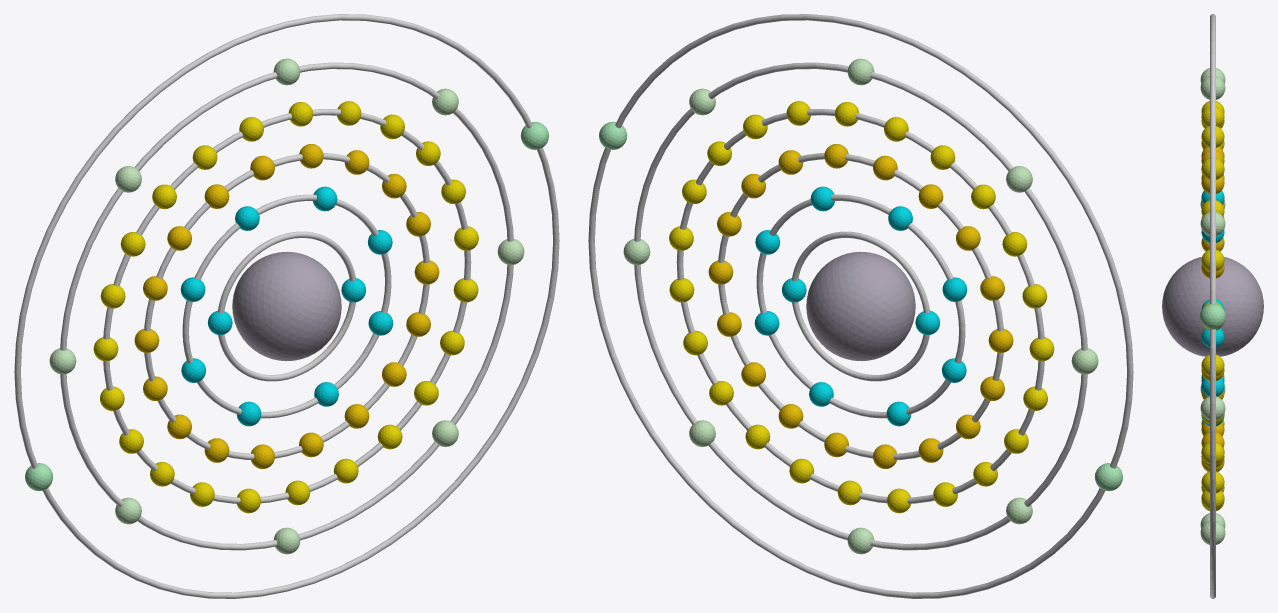
The picture shows the model from 3 angles, left to right: view 1: azimuth 30°, elevation 25°; view 2: azimuth 150°, elevation 25°; view 3: azimuth 270°, elevation 25°; orthographic projection. The views are drawn at different scales.
Parts seen in each view (by area): view 1: world; view 2: world; view 3: world.
Boxes of the visible parts, x1,y1,x2,y2 form: world: [14, 14, 559, 598]; world: [588, 14, 1133, 598]; world: [1162, 14, 1263, 598].
Bounding box in the file's own units: 2.53 × 2.53 × 0.44.
